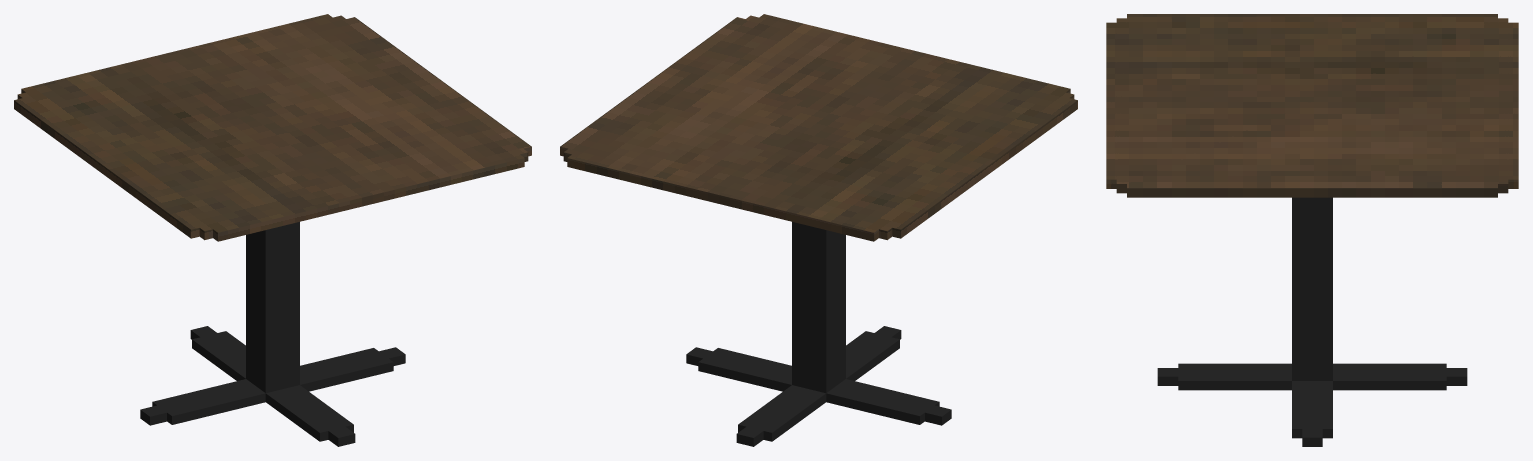
Rendered from SquareTable.fbx.
3 views of the same model, side by side, from view 1: azimuth 30°, elevation 25°; view 2: azimuth 150°, elevation 25°; view 3: azimuth 270°, elevation 25° (orthographic). The views are drawn at different scales.
Parts seen in each view (by area): view 1: SquareTable; view 2: SquareTable; view 3: SquareTable.
Boxes of the visible parts, x1=… form: SquareTable: x1=14, y1=14, x2=531, y2=446; SquareTable: x1=560, y1=14, x2=1077, y2=446; SquareTable: x1=1106, y1=14, x2=1518, y2=446.
Size of the model in its own units: 4 by 3 by 4.
2 materials, 2 textured.
